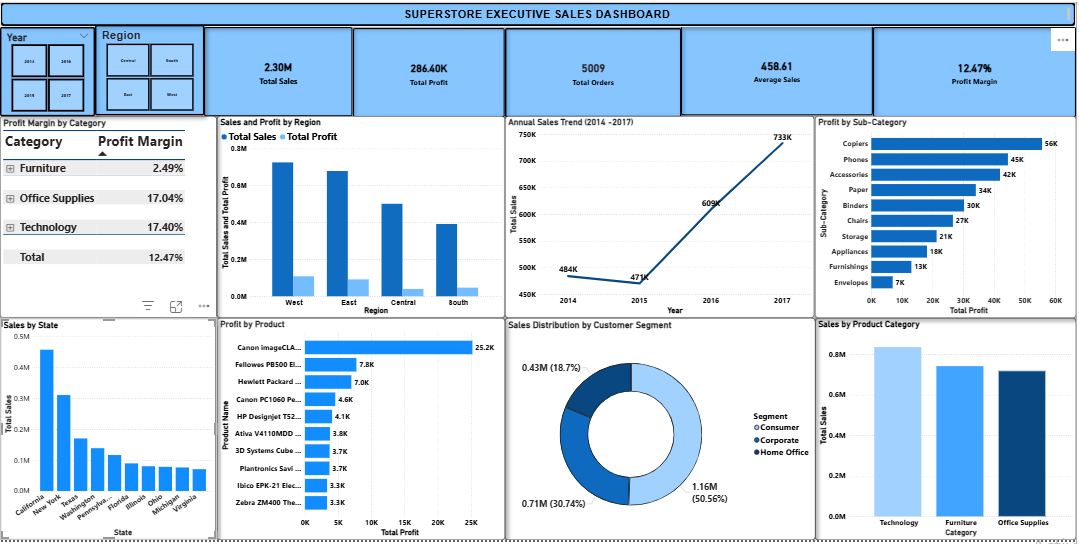

This screenshot's page, from the dashboard's own definition file:
{"tool":"powerbi","page":{"name":"Superstore Dashboard","canvas":[3000,1500],"ordinal":0},"visuals":[{"type":"card","fields":{"Values":["Sample - Superstore.Total Sales"]},"box":[569.5,68.5,413.9,249],"z":0},{"type":"card","fields":{"Values":["Sample - Superstore.Total Profit"]},"box":[983.4,71.6,423.2,249],"z":1000},{"type":"card","fields":{"Values":["Sample - Superstore.Total Orders"]},"box":[1406.6,71.6,491.7,249],"z":2000},{"type":"card","fields":{"Values":["Sample - Superstore.Average Sales"]},"box":[1898.3,65.4,535.3,252.1],"z":3000},{"type":"card","fields":{"Values":["Sample - Superstore.Profit Margin"]},"box":[2433.6,68.5,566.4,252.1],"z":4000},{"type":"clusteredColumnChart","title":"Sales and Profit by Region","fields":{"Category":["Sample - Superstore.Region"],"Y":["Sample - Superstore.Total Sales","Sample - Superstore.Total Profit"]},"box":[603.7,317.4,802.9,563.3],"z":5000},{"type":"clusteredColumnChart","title":"Sales by Product Category","fields":{"Category":["Sample - Superstore.Category"],"Y":["Sample - Superstore.Total Sales"]},"box":[2271.8,880.7,728.2,619.3],"z":6000},{"type":"lineChart","title":"Annual Sales Trend (2014 -2017)","fields":{"Y":["Sample - Superstore.Total Sales"],"Category":["Sample - Superstore.Order Date.Variation.Date Hierarchy.Year"]},"box":[1406.6,317.4,862,563.3],"z":7000},{"type":"donutChart","title":"Sales Distribution by Customer Segment","fields":{"Category":["Sample - Superstore.Segment"],"Y":["Sample - Superstore.Total Sales"]},"box":[1406.6,880.7,865.1,619.3],"z":8000},{"type":"pivotTable","title":"Profit Margin by Category","fields":{"Rows":["Sample - Superstore.Category","Sample - Superstore.Sub-Category"],"Values":["Sample - Superstore.Profit Margin"]},"box":[0,317.4,603.7,563.3],"z":9000},{"type":"textbox","box":[0,0,3000,68.5],"z":10000},{"type":"clusteredBarChart","title":"Profit by Product","fields":{"Category":["Sample - Superstore.Product Name"],"Y":["Sample - Superstore.Total Profit"]},"box":[603.7,880.7,802.9,619.3],"z":11000},{"type":"clusteredBarChart","title":"Profit by Sub-Category","fields":{"Category":["Sample - Superstore.Sub-Category"],"Y":["Sample - Superstore.Total Profit"]},"box":[2271.8,317.4,728.2,563.3],"z":12000},{"type":"slicer","fields":{"Values":["Sample - Superstore.Order Date.Variation.Date Hierarchy.Year"]},"box":[0,68.5,264.5,249],"z":13000},{"type":"slicer","fields":{"Values":["Sample - Superstore.Region"]},"box":[264.5,65.4,305,252.1],"z":14000},{"type":"clusteredColumnChart","title":"Sales by State","fields":{"Category":["Sample - Superstore.State"],"Y":["Sample - Superstore.Total Sales"]},"box":[0,880.7,603.7,619.3],"z":15000}]}

Visuals, with their boxes in screenshot pixels (x1, y1, x2, y2), scaled from the page's 3000x1500 canvas onto the 1079x544 screenshot:
card - Sample - Superstore.Total Sales: BBox(205, 25, 354, 115)
card - Sample - Superstore.Total Profit: BBox(354, 26, 506, 116)
card - Sample - Superstore.Total Orders: BBox(506, 26, 683, 116)
card - Sample - Superstore.Average Sales: BBox(683, 24, 875, 115)
card - Sample - Superstore.Profit Margin: BBox(875, 25, 1078, 116)
"Sales and Profit by Region" clusteredColumnChart: BBox(217, 115, 506, 319)
"Sales by Product Category" clusteredColumnChart: BBox(817, 319, 1078, 543)
"Annual Sales Trend (2014 -2017)" lineChart: BBox(506, 115, 816, 319)
"Sales Distribution by Customer Segment" donutChart: BBox(506, 319, 817, 543)
"Profit Margin by Category" pivotTable: BBox(0, 115, 217, 319)
textbox: BBox(0, 0, 1078, 25)
"Profit by Product" clusteredBarChart: BBox(217, 319, 506, 543)
"Profit by Sub-Category" clusteredBarChart: BBox(817, 115, 1078, 319)
slicer - Sample - Superstore.Order Date.Variation.Date Hierarchy.Year: BBox(0, 25, 95, 115)
slicer - Sample - Superstore.Region: BBox(95, 24, 205, 115)
"Sales by State" clusteredColumnChart: BBox(0, 319, 217, 543)
